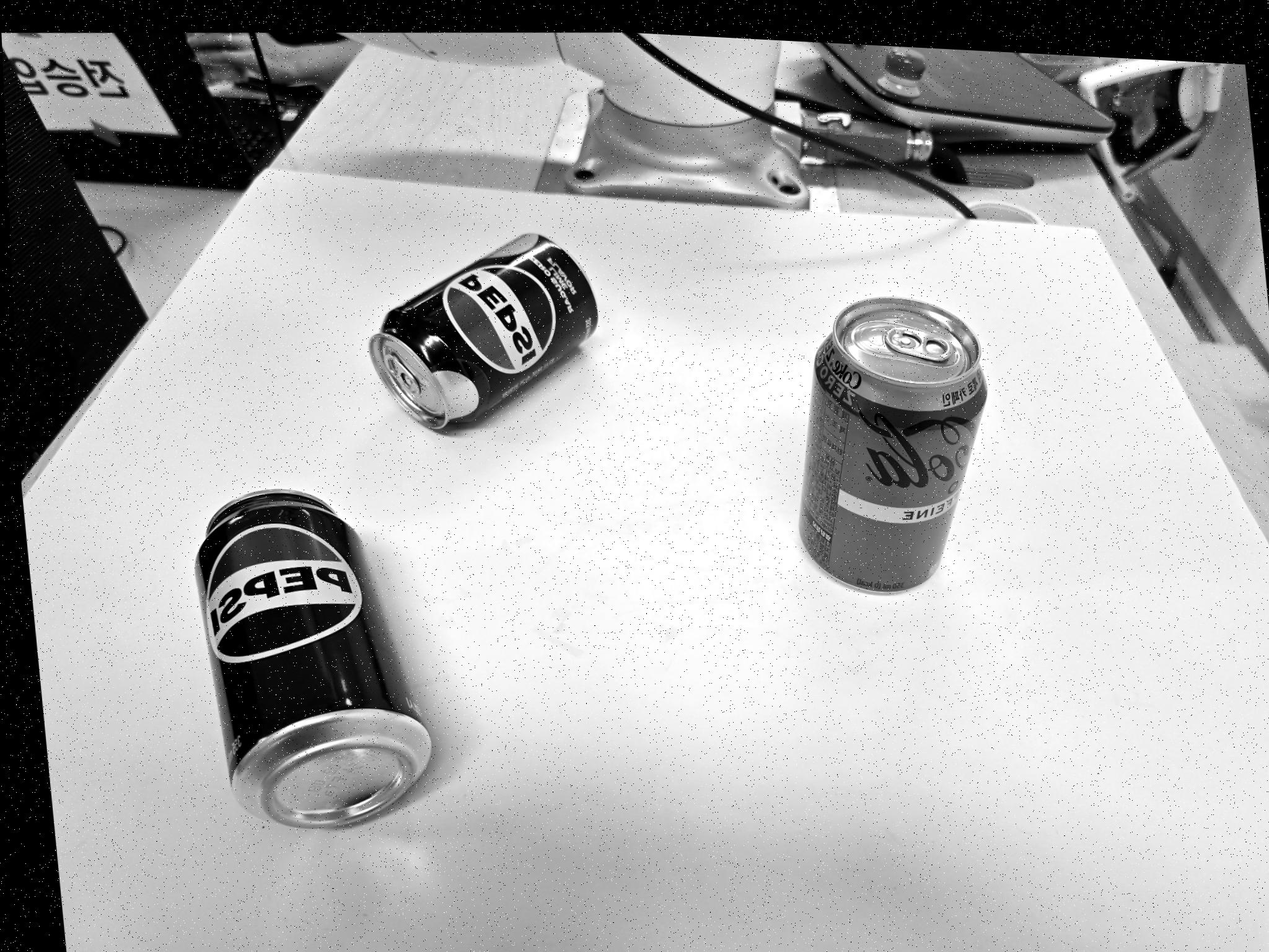can_coke_decaf: (798, 298, 988, 593)
can_pepsi: (191, 489, 431, 830)
can_pepsi_zero: (368, 231, 598, 433)
